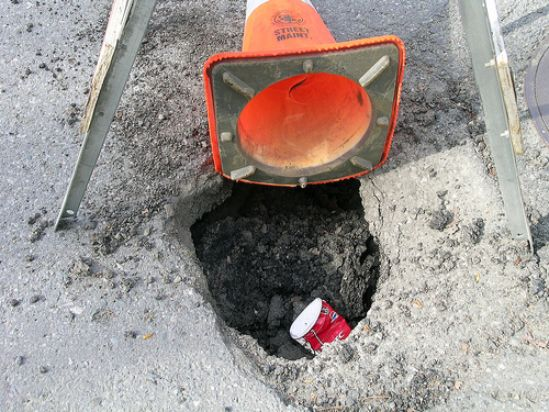pothole: (179, 176, 386, 362)
